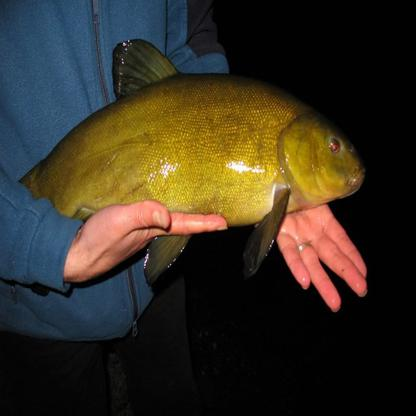fish: (33, 37, 367, 279)
